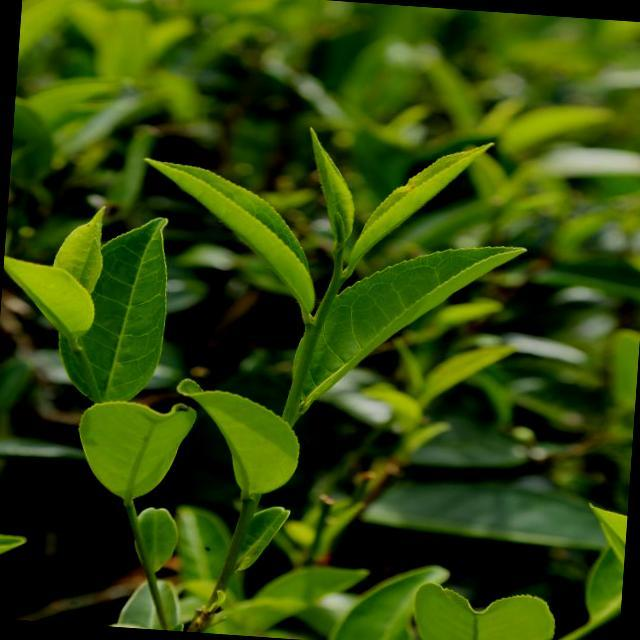Stem: (329, 275, 346, 291)
